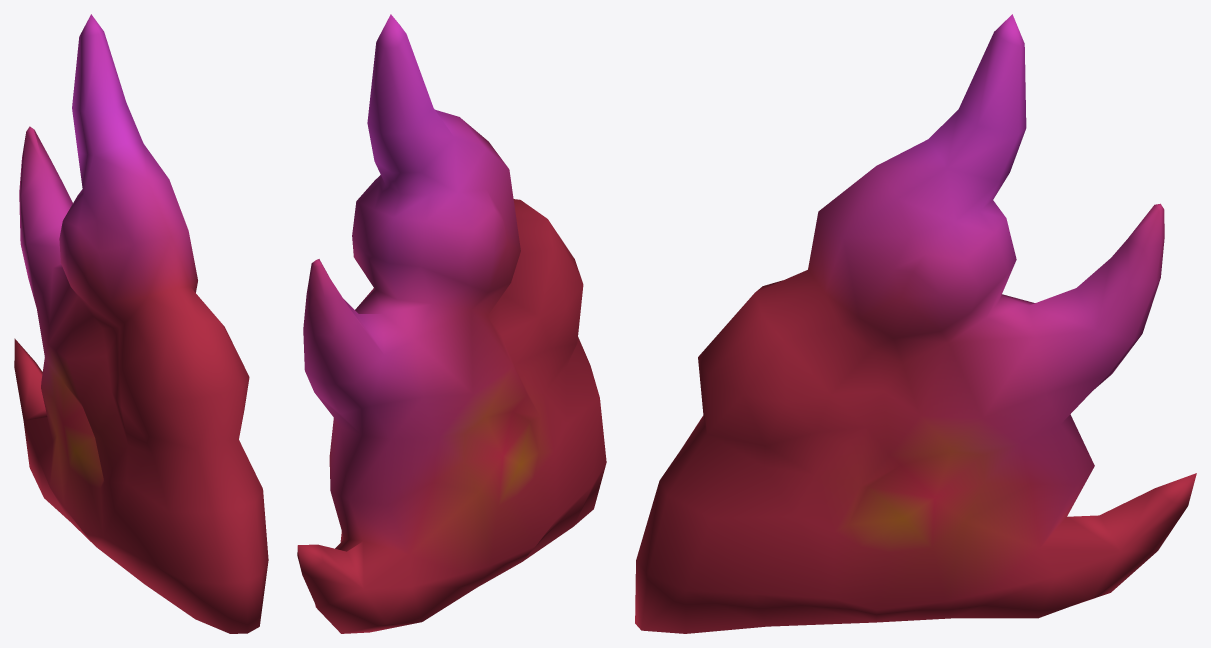
File: S12_Bird06_L2_Horn.glb
The picture shows the model from 3 angles, left to right: view 1: azimuth 30°, elevation 25°; view 2: azimuth 150°, elevation 25°; view 3: azimuth 270°, elevation 25°; orthographic projection. The views are drawn at different scales.
Parts seen in each view (by area): view 1: S12_Bird06_L2_Horn__Horn_T__surface0__lod0; view 2: S12_Bird06_L2_Horn__Horn_T__surface0__lod0; view 3: S12_Bird06_L2_Horn__Horn_T__surface0__lod0.
Boxes of the visible parts, x1=… form: S12_Bird06_L2_Horn__Horn_T__surface0__lod0: x1=14, y1=14, x2=268, y2=633; S12_Bird06_L2_Horn__Horn_T__surface0__lod0: x1=297, y1=14, x2=606, y2=633; S12_Bird06_L2_Horn__Horn_T__surface0__lod0: x1=635, y1=14, x2=1196, y2=633.
Size of the model in its own units: 16.39 by 62.95 by 52.6.
